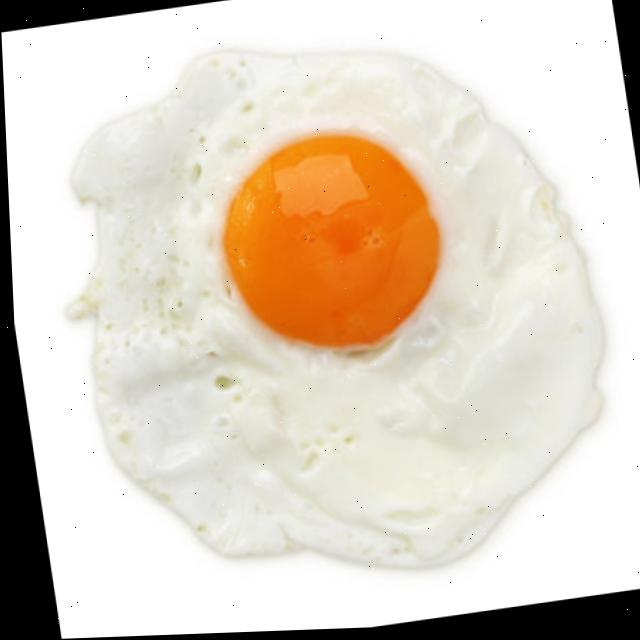Egg: (68, 57, 597, 570)
